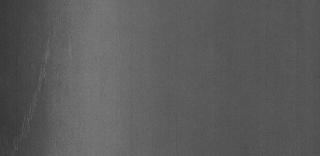silk spot: (17, 42, 68, 130)
